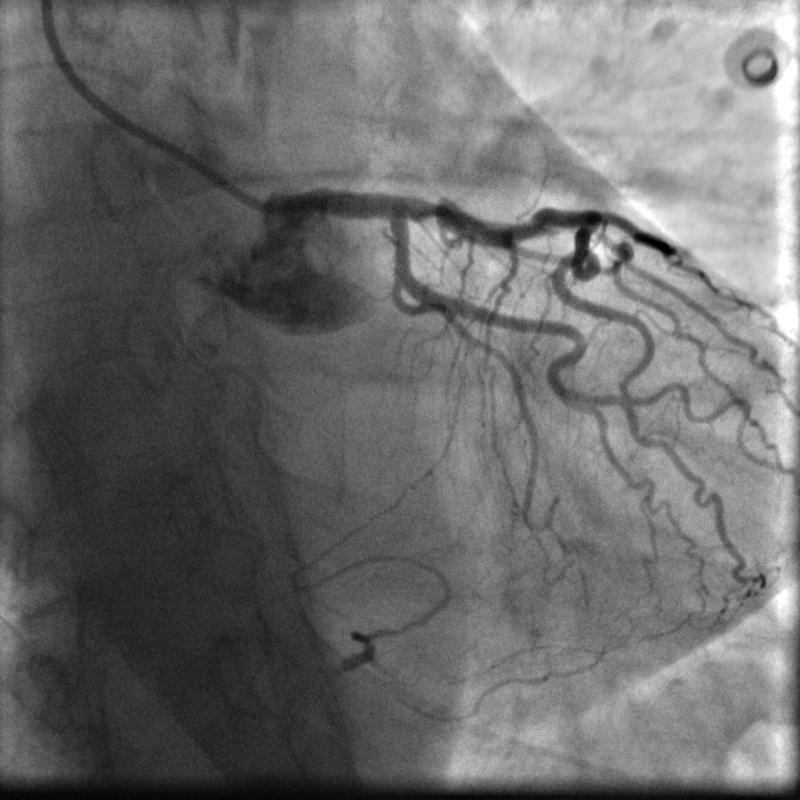Stenosis: (416, 194, 450, 224)
